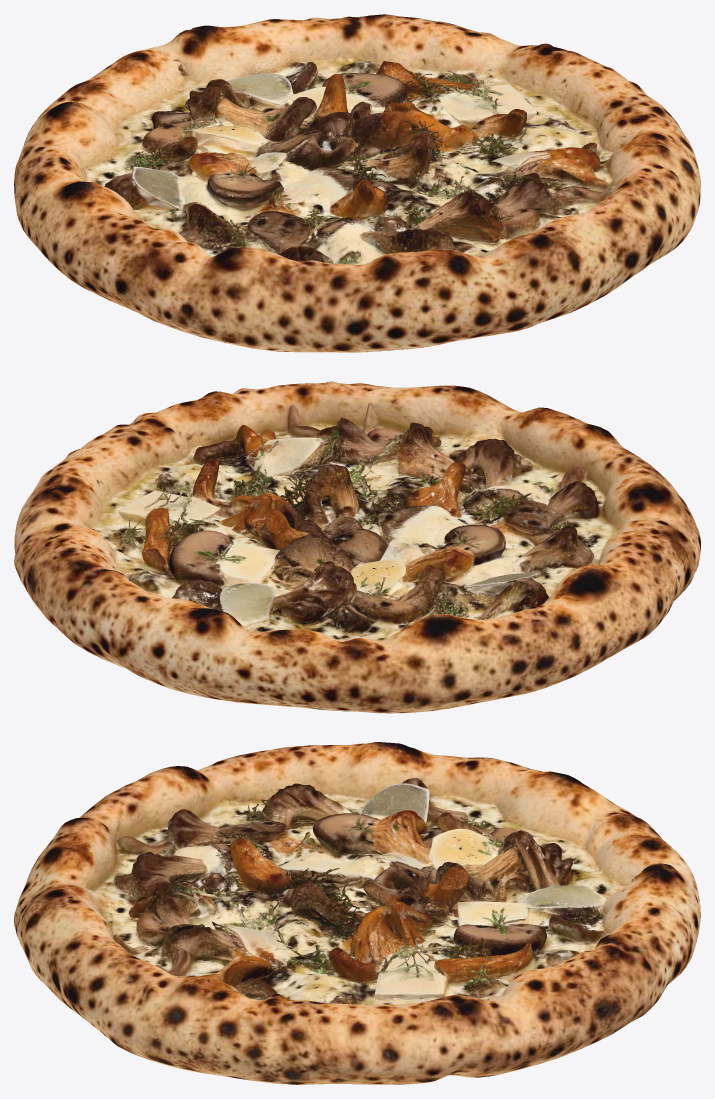
Rendered from truffle-pizza.glb.
3 views of the same model, one above another, from view 1: azimuth 30°, elevation 25°; view 2: azimuth 150°, elevation 25°; view 3: azimuth 270°, elevation 25° (orthographic). The views are drawn at different scales.
Visible parts, largest first — view 1: Mesh_0; view 2: Mesh_0; view 3: Mesh_0.
Part boxes in pixels (x1=…): Mesh_0: x1=14, y1=14, x2=700, y2=352; Mesh_0: x1=14, y1=381, x2=700, y2=713; Mesh_0: x1=14, y1=742, x2=700, y2=1084.
Bounding box in the file's own units: 1.9 × 0.3429 × 1.87.
1 material, 1 textured.
